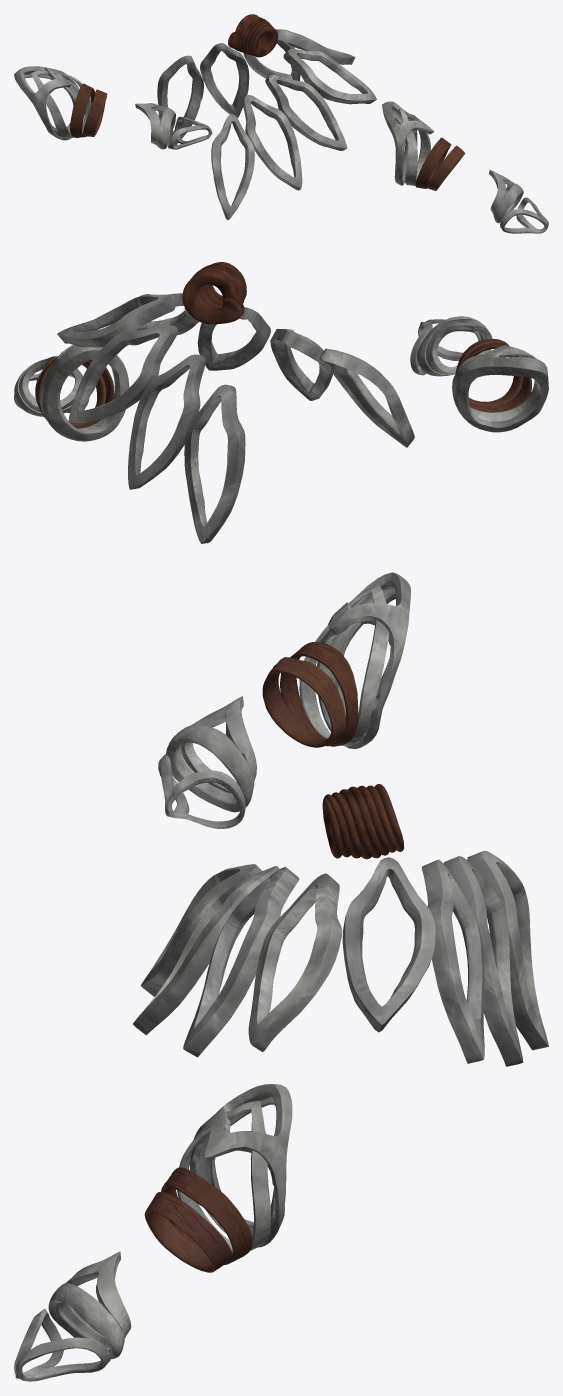
The model's file is SubTool-6-7785203.OBJ.
3 views of the same model, one above another, from view 1: azimuth 30°, elevation 25°; view 2: azimuth 150°, elevation 25°; view 3: azimuth 270°, elevation 25° (orthographic). The views are drawn at different scales.
Visible parts, largest first — view 1: Group5679, Group5664, Group5424, Group5454, Group5514, Group5439, Group5484, Group5544, Group5394, Group5574, Group5469, Group5364 (+11 smaller); view 2: Group5394, Group5439, Group5409, Group5514, Group5454, Group5484, Group5544, Group5469, Group5664, Group5679, Group5649, Group5619 (+9 smaller); view 3: Group5424, Group5679, Group5409, Group5469, Group5484, Group5439, Group5514, Group5394, Group5544, Group5664, Group5529, Group5634 (+11 smaller).
Boxes of the visible parts, bbox=[...] form: Group5679: bbox=[265, 74, 347, 150]; Group5664: bbox=[242, 95, 302, 190]; Group5424: bbox=[283, 48, 376, 104]; Group5454: bbox=[211, 114, 254, 220]; Group5514: bbox=[14, 66, 79, 140]; Group5439: bbox=[200, 43, 249, 118]; Group5484: bbox=[382, 101, 434, 185]; Group5544: bbox=[228, 14, 278, 57]; Group5394: bbox=[157, 55, 203, 145]; Group5574: bbox=[399, 108, 430, 185]; Group5469: bbox=[276, 29, 355, 64]; Group5364: bbox=[500, 197, 548, 233]; Group5394: bbox=[184, 384, 245, 543]; Group5439: bbox=[128, 354, 206, 489]; Group5409: bbox=[68, 324, 177, 423]; Group5514: bbox=[452, 345, 548, 432]; Group5454: bbox=[319, 348, 414, 447]; Group5484: bbox=[42, 345, 129, 441]; Group5544: bbox=[182, 262, 246, 324]; Group5469: bbox=[57, 294, 176, 347]; Group5664: bbox=[270, 329, 332, 400]; Group5679: bbox=[197, 307, 270, 370]; Group5649: bbox=[426, 321, 492, 374]; Group5619: bbox=[456, 351, 536, 422]; Group5424: bbox=[248, 873, 342, 1051]; Group5679: bbox=[183, 866, 299, 1057]; Group5409: bbox=[421, 859, 484, 1063]; Group5469: bbox=[342, 857, 435, 1032]; Group5484: bbox=[189, 1084, 292, 1247]; Group5439: bbox=[443, 856, 523, 1066]; Group5514: bbox=[317, 572, 410, 748]; Group5394: bbox=[467, 850, 548, 1050]; Group5544: bbox=[322, 784, 404, 859]; Group5664: bbox=[133, 866, 279, 1035]; Group5529: bbox=[144, 1192, 232, 1272]; Group5634: bbox=[262, 657, 346, 747].
Size of the model in its own units: 2.8 by 1.23 by 1.49.
Materials: 1 (1 with a texture image).
